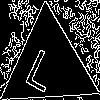L: (23, 40, 64, 93)
